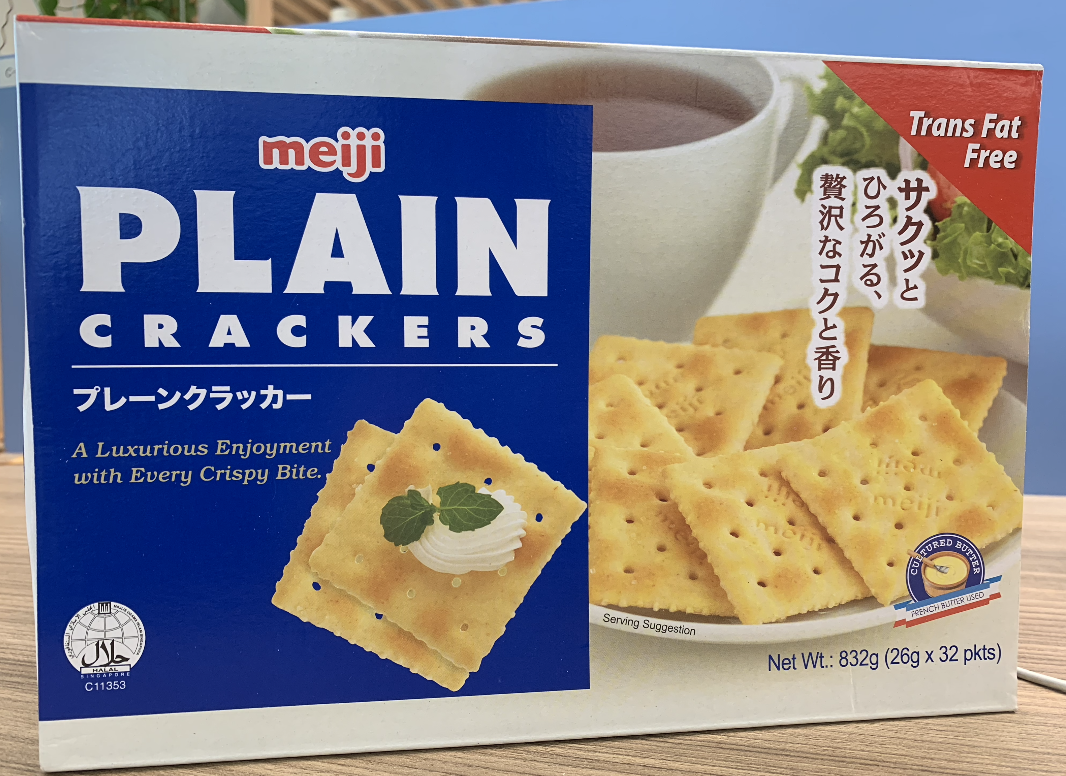crackers_550g: (51, 67, 1010, 693)
